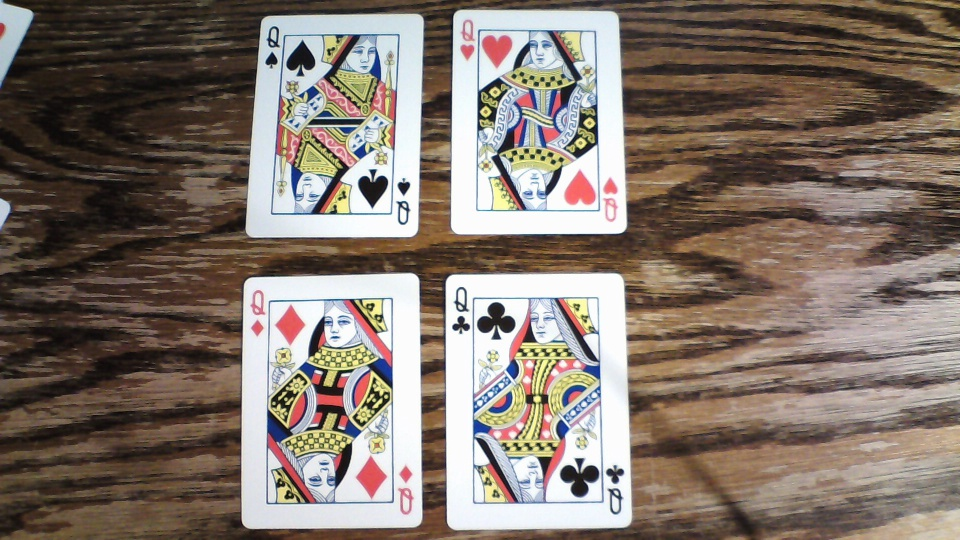queen: (444, 273, 632, 528), (240, 272, 425, 526), (246, 12, 425, 237), (450, 9, 629, 234)
